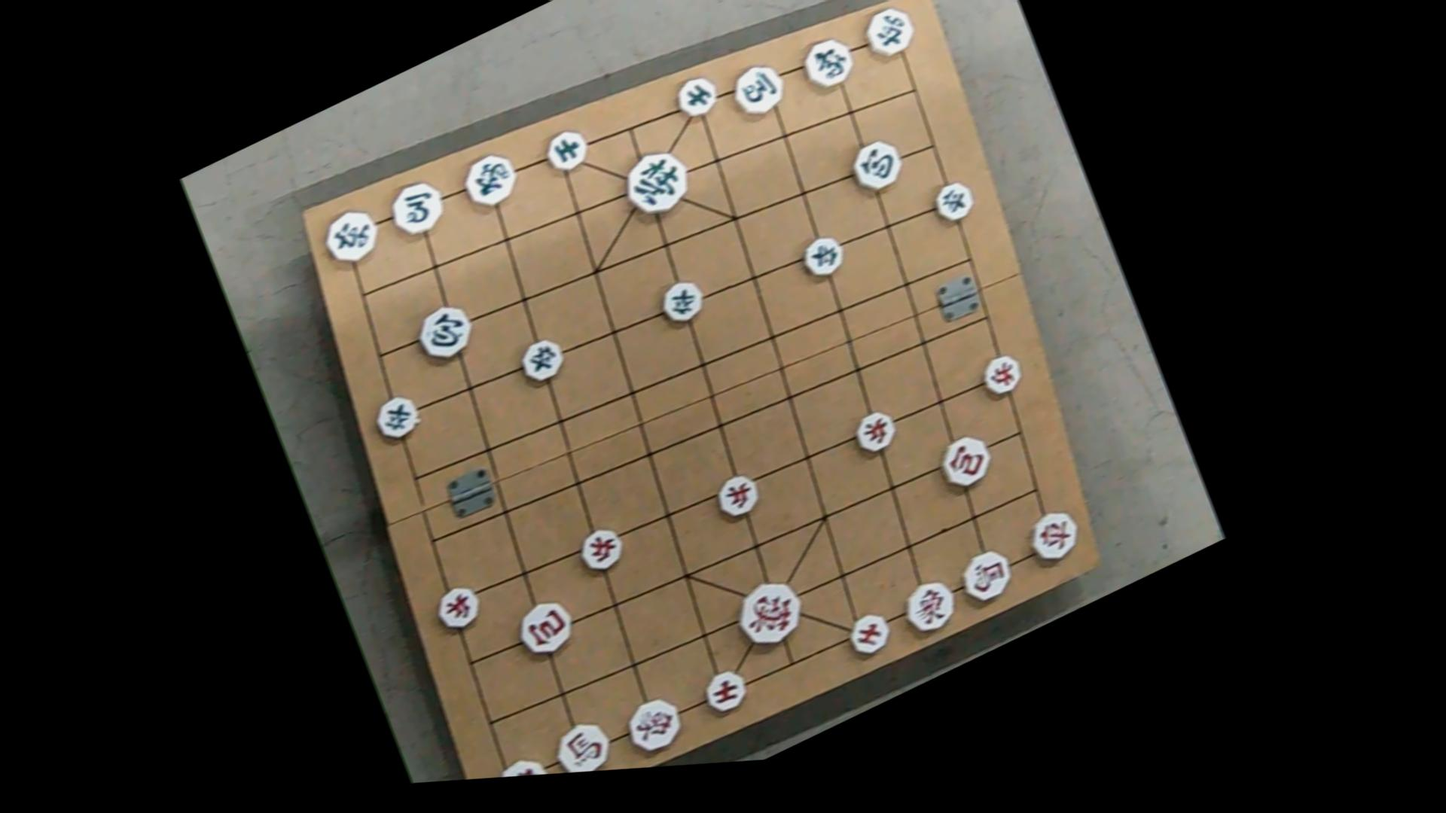cha_green: (317, 202, 385, 274), (855, 0, 917, 64)
cha_red: (1023, 502, 1085, 568), (493, 749, 558, 778)
jol_green: (371, 389, 424, 446), (515, 332, 568, 388), (653, 274, 706, 330), (928, 175, 979, 230), (796, 229, 848, 282)
jol_red: (972, 342, 1031, 405), (572, 519, 630, 582), (429, 577, 485, 635), (711, 469, 764, 525), (849, 405, 899, 460)
ma_green: (384, 174, 453, 245), (725, 55, 794, 126)
ma_red: (953, 544, 1017, 611), (549, 713, 615, 774)
po_green: (410, 294, 483, 368), (845, 131, 908, 198)
po_red: (511, 593, 578, 665), (932, 427, 996, 495)
sa_green: (670, 69, 725, 125), (541, 123, 591, 177)
sa_red: (840, 604, 898, 662), (697, 659, 753, 718)
sang_green: (456, 142, 525, 214), (796, 29, 862, 95)
sang_red: (618, 690, 687, 762), (896, 571, 960, 638)
wang_green: (615, 140, 702, 227)
wang_red: (726, 568, 814, 656)
